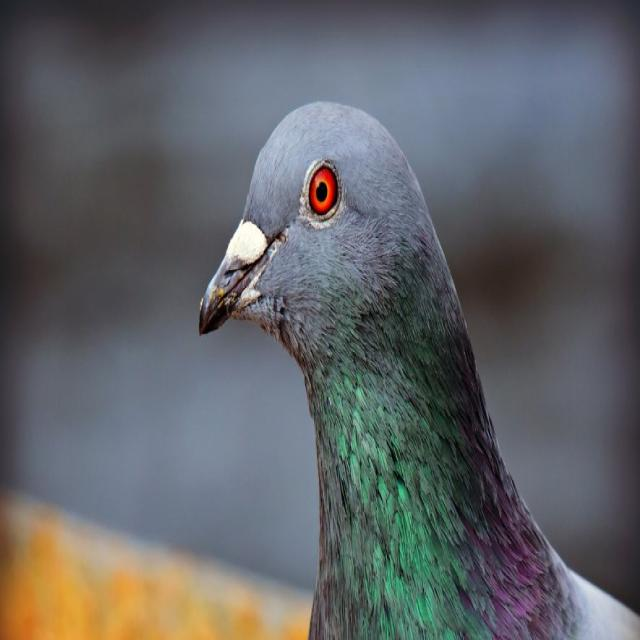pigeon: (193, 86, 608, 640)
